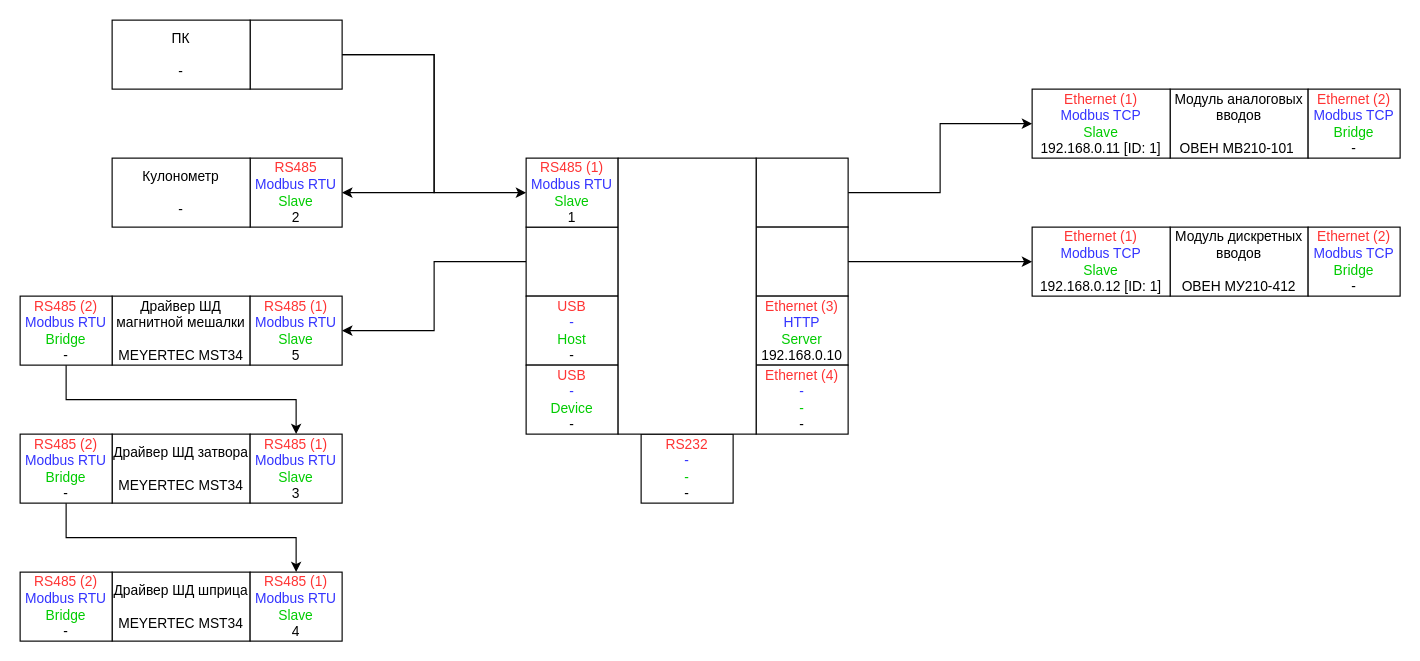
Some shapes in this 1420 by 661 pixel diagram are drawn without their labels. The centre of each missing label's shape, as x and y in pixels:
"Ethernet (1) Modbus TCP Master -" goes at (x=801, y=192).
"Ethernet (2) Modbus TCP Master -" goes at (x=801, y=261).
"RS485 (2) Modbus RTU Master -" goes at (x=571, y=261).
"RS485 Modbus RTU Master -" goes at (x=295, y=54).
"ПЛК ОВЕН ПЛК210-412" goes at (x=686, y=295).
